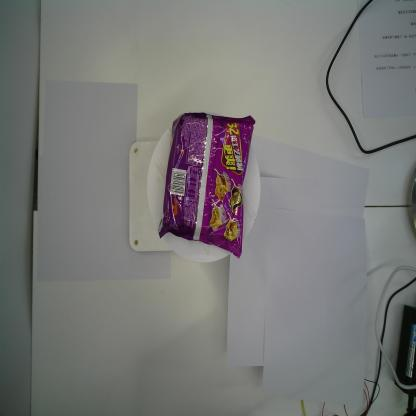Instant Noodles: (158, 112, 255, 260)
